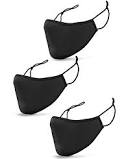cloth_mask: (50, 97, 117, 159), (43, 1, 111, 61), (13, 56, 80, 116)
